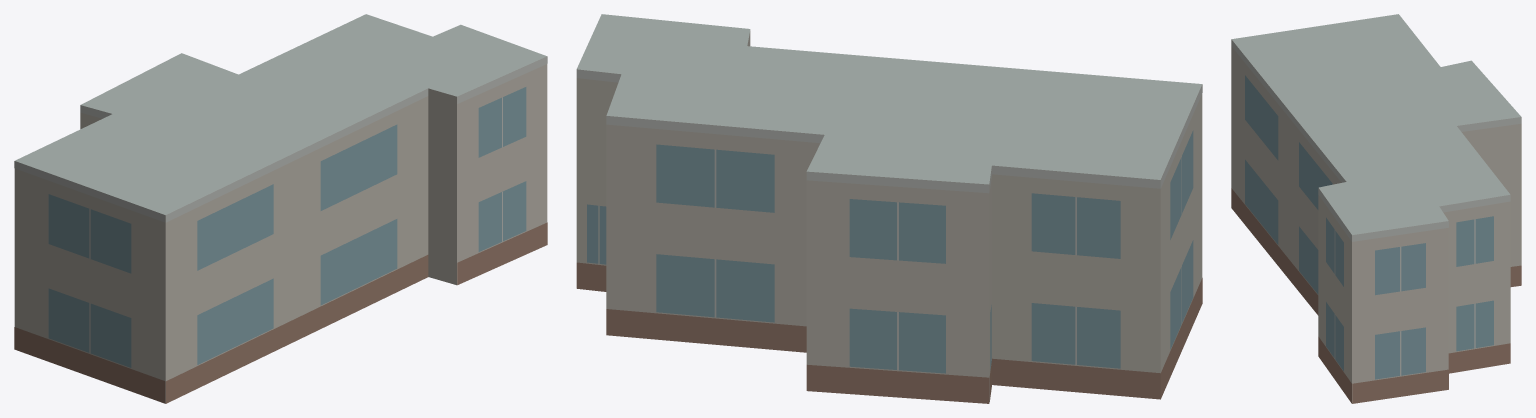
File: survey-upis-32471835.glb
3 views of the same model, side by side, from view 1: azimuth 30°, elevation 25°; view 2: azimuth 150°, elevation 25°; view 3: azimuth 270°, elevation 25° (orthographic). The views are drawn at different scales.
Visible parts, largest first — view 1: survey-upis-32471835.tmp; view 2: survey-upis-32471835.tmp; view 3: survey-upis-32471835.tmp.
Boxes of the visible parts, <box> form: survey-upis-32471835.tmp: <box>14,14,547,403</box>; survey-upis-32471835.tmp: <box>576,14,1202,403</box>; survey-upis-32471835.tmp: <box>1231,14,1521,403</box>.
Size of the model in its own units: 17.16 by 6.1 by 9.52.
